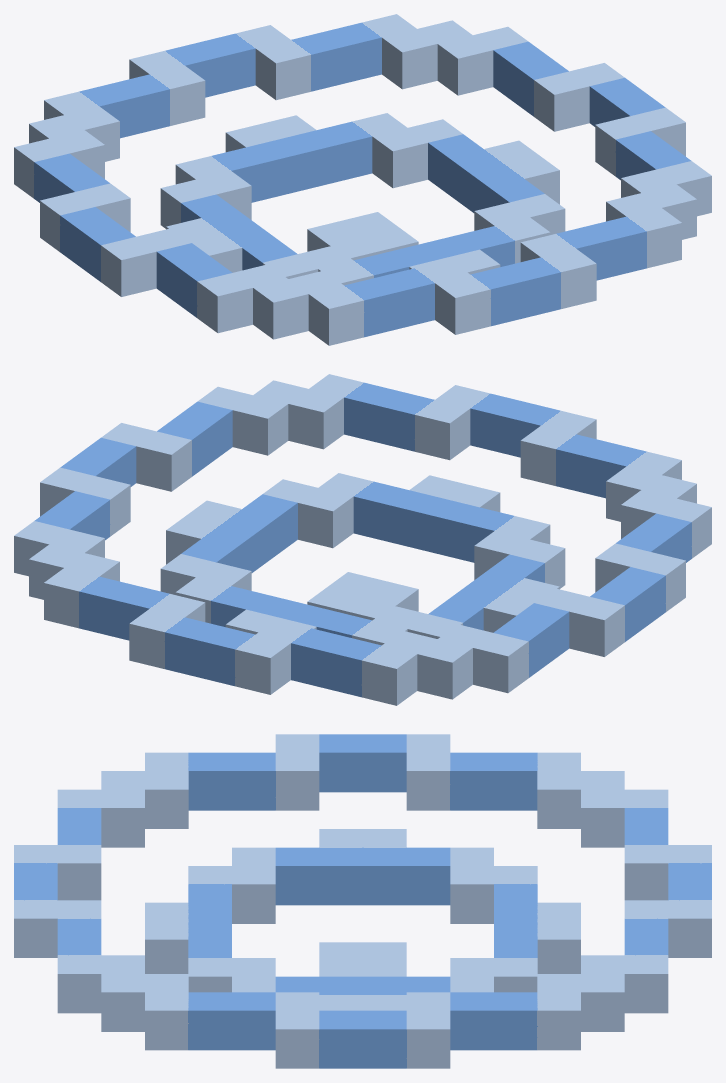
The model's file is FishingSpot.fbx.
3 views of the same model, one above another, from view 1: azimuth 30°, elevation 25°; view 2: azimuth 150°, elevation 25°; view 3: azimuth 270°, elevation 25° (orthographic). The views are drawn at different scales.
Parts seen in each view (by area): view 1: Box, Box_1, Box_2; view 2: Box, Box_1, Box_2; view 3: Box, Box_1, Box_2.
Boxes of the visible parts, box(x1,y1,x2,y2) form: Box: box(14, 14, 711, 345); Box_1: box(160, 113, 565, 285); Box_2: box(307, 212, 418, 260); Box: box(14, 374, 711, 705); Box_1: box(160, 473, 565, 645); Box_2: box(307, 572, 418, 620); Box: box(14, 734, 711, 1068); Box_1: box(145, 829, 580, 1010); Box_2: box(319, 942, 406, 976).
Size of the model in its own units: 16 by 3 by 16.
1 material, 1 textured.
